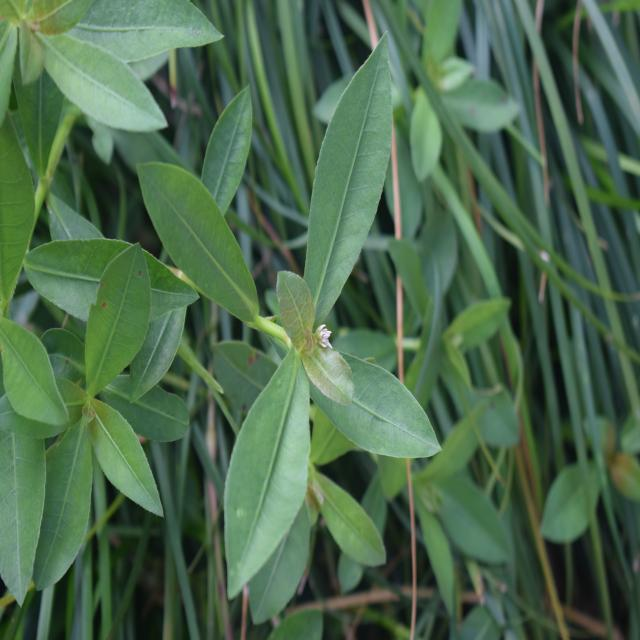Alligatorweed: (129, 105, 437, 582)
